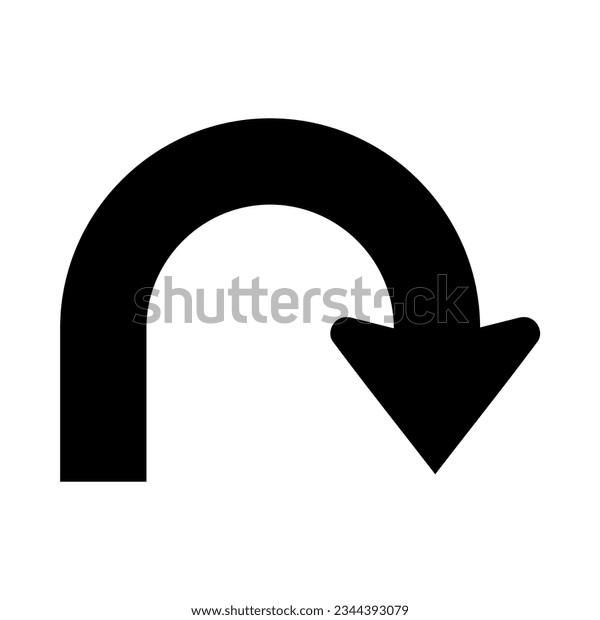Right Hair Pin Bend: (37, 65, 584, 512)
